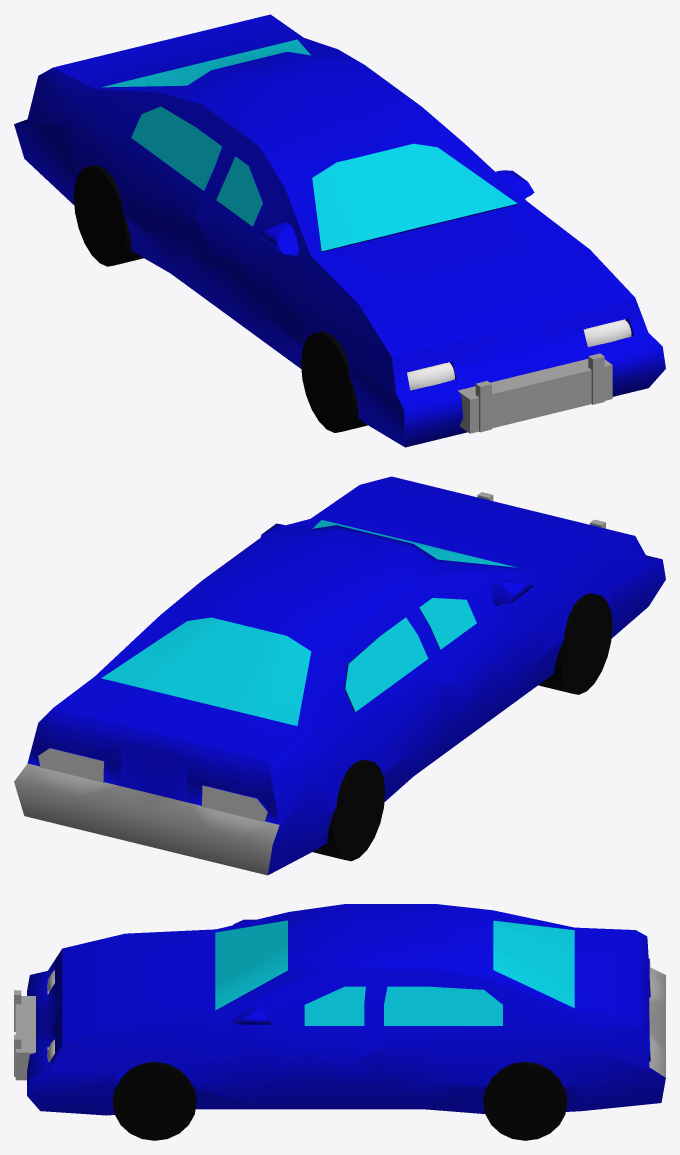
The model's file is blue car.fbx.
3 renders of one model, top to bottom at view 1: azimuth 30°, elevation 25°; view 2: azimuth 150°, elevation 25°; view 3: azimuth 270°, elevation 25°, orthographic. The views are drawn at different scales.
Visible parts, largest first — view 1: polySurface8; view 2: polySurface8; view 3: polySurface8.
Part boxes in pixels (bbox=[...]): polySurface8: bbox=[14, 14, 665, 447]; polySurface8: bbox=[14, 476, 665, 875]; polySurface8: bbox=[14, 904, 665, 1140].
Size of the model in its own units: 1.74 by 1.23 by 4.59.
